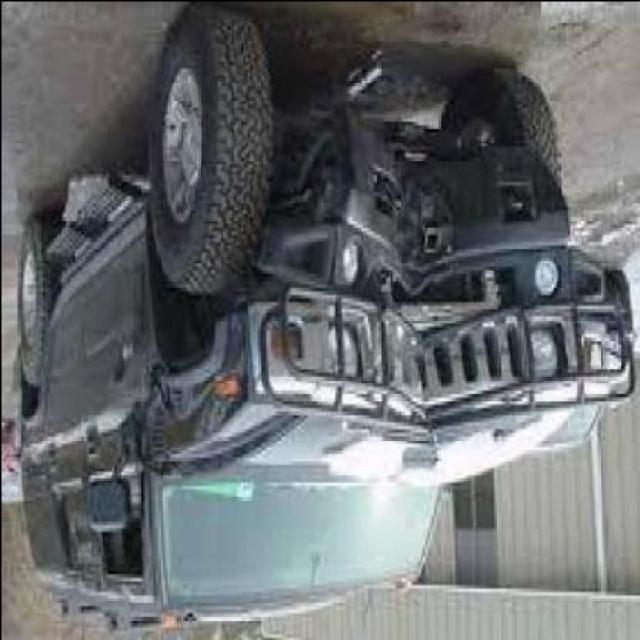damage: (244, 86, 611, 477)
